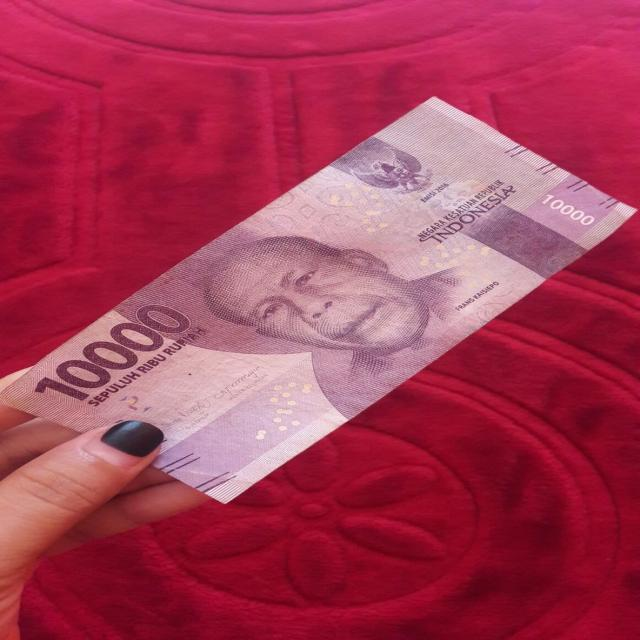sepuluh ribu rupiah: (0, 96, 640, 505)
